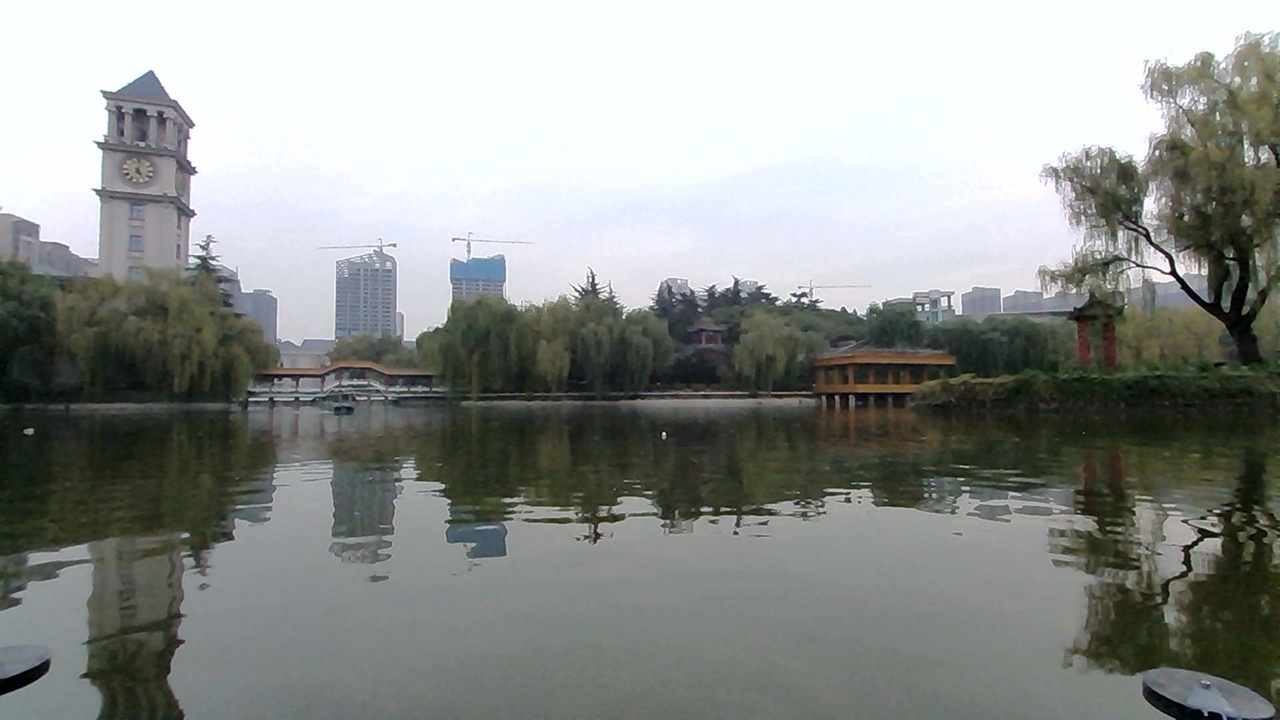bottle: (643, 421, 685, 450), (13, 418, 52, 443)
